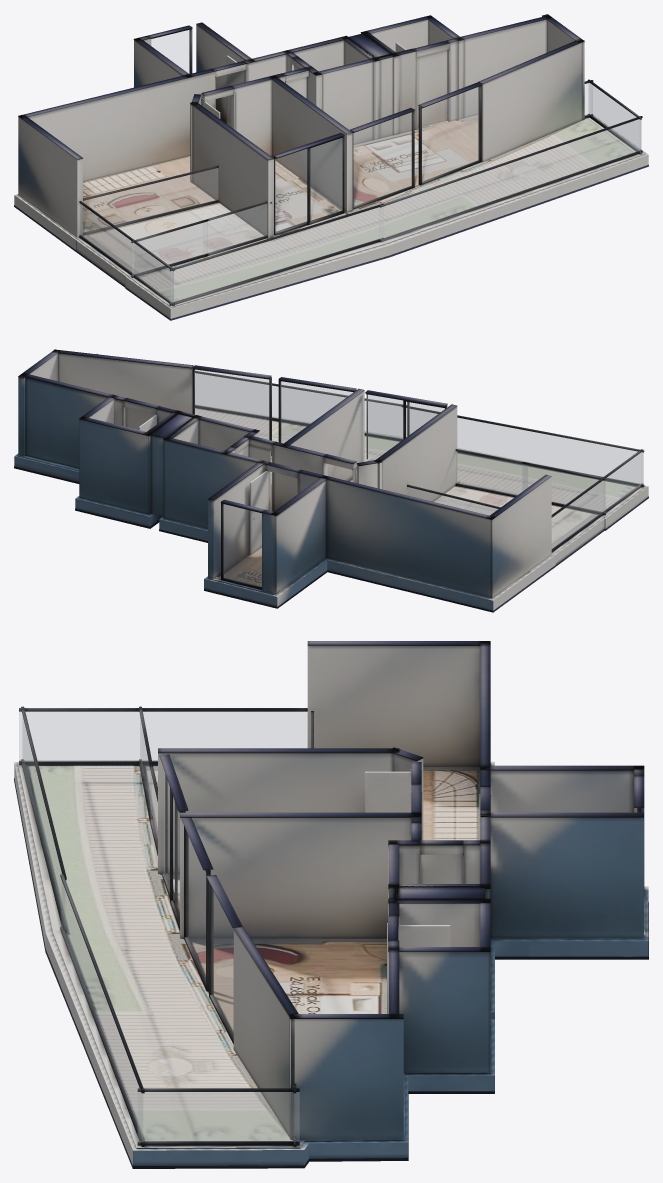
3 renders of one model, top to bottom at view 1: azimuth 30°, elevation 25°; view 2: azimuth 150°, elevation 25°; view 3: azimuth 270°, elevation 25°, orthographic. The views are drawn at different scales.
Parts seen in each view (by area): view 1: plan, railg7_m, railg8_m, glass2_m, glass0_m, glass1_m, railg0_m, railg4_m, railg6_m, railg5_m, railg2_m, glass3_m; view 2: plan, railg8_m, railg7_m, glass1_m, glass3_m, railg4_m, glass2_m, glass0_m, railg5_m, railg6_m, railg0_m; view 3: plan, railg4_m, railg2_m, railg7_m, glass1_m, glass0_m, railg8_m, glass2_m.
Boxes of the visible parts, box(x1,y1,x2,y2) form: plan: box(14, 14, 648, 320); railg7_m: box(380, 119, 641, 239); railg8_m: box(170, 207, 383, 303); glass2_m: box(275, 138, 342, 232); glass0_m: box(353, 112, 411, 206); glass1_m: box(422, 87, 479, 181); railg0_m: box(83, 168, 217, 232); railg4_m: box(80, 204, 173, 303); railg6_m: box(132, 221, 207, 275); railg5_m: box(203, 204, 266, 254); railg2_m: box(589, 83, 640, 151); glass3_m: box(151, 30, 189, 73); plan: box(14, 349, 648, 612); railg8_m: box(402, 408, 643, 484); railg7_m: box(195, 373, 401, 438); glass1_m: box(195, 370, 268, 439); glass3_m: box(223, 504, 261, 587); railg4_m: box(552, 452, 641, 548); glass2_m: box(366, 394, 444, 459); glass0_m: box(281, 381, 352, 442); railg5_m: box(456, 451, 527, 494); railg6_m: box(522, 464, 605, 512); railg0_m: box(407, 487, 497, 515); plan: box(14, 641, 648, 1168); railg4_m: box(19, 712, 307, 761); railg2_m: box(138, 1092, 299, 1141); railg7_m: box(61, 880, 142, 1141); glass1_m: box(211, 887, 233, 1035); glass0_m: box(186, 832, 205, 981); railg8_m: box(22, 716, 64, 926); glass2_m: box(164, 771, 179, 917).
Size of the model in its own units: 15.57 by 2.62 by 10.72.
Materials: 2 (1 with a texture image).
